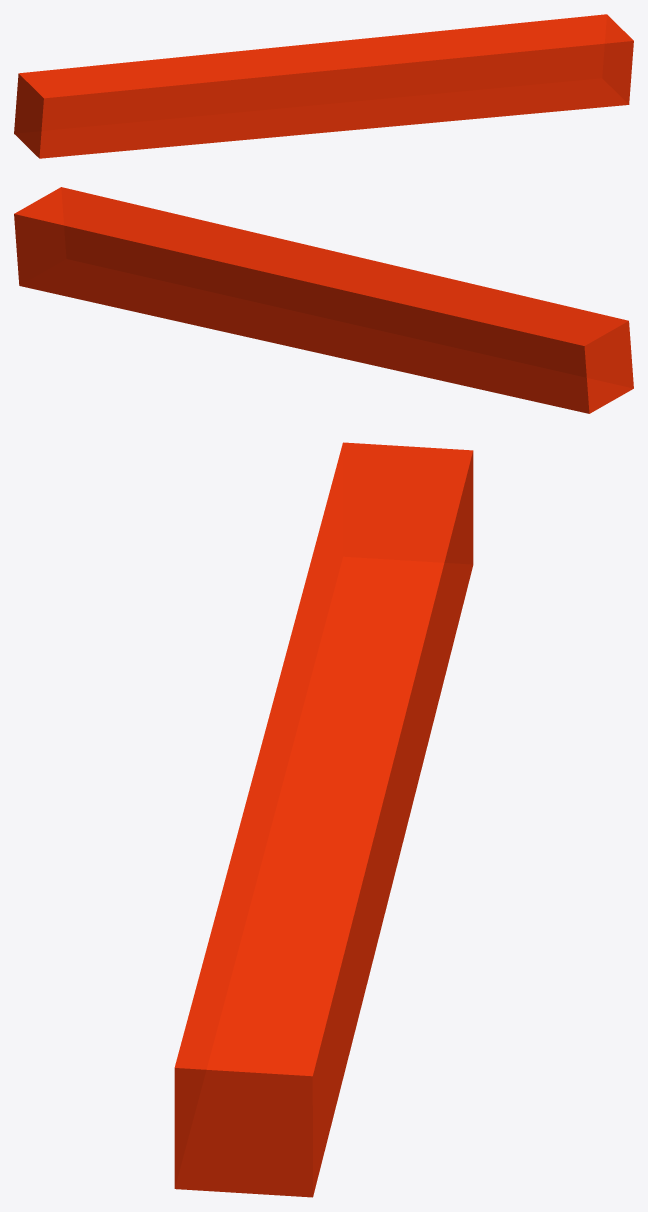
Rendered from Event_420094457_EErechit_58.fbx.
3 renders of one model, top to bottom at view 1: azimuth 30°, elevation 25°; view 2: azimuth 150°, elevation 25°; view 3: azimuth 270°, elevation 25°, orthographic. The views are drawn at different scales.
Parts seen in each view (by area): view 1: Model; view 2: Model; view 3: Model.
Boxes of the visible parts, <box> form: Model: <box>14,14,633,158</box>; Model: <box>14,187,633,413</box>; Model: <box>174,442,473,1197</box>.
Bounding box in the file's own units: 0.7148 × 0.1327 × 0.1652.
